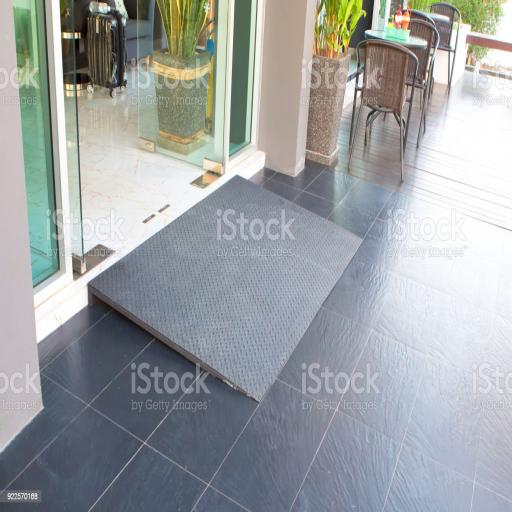ramp: (87, 175, 363, 403)
